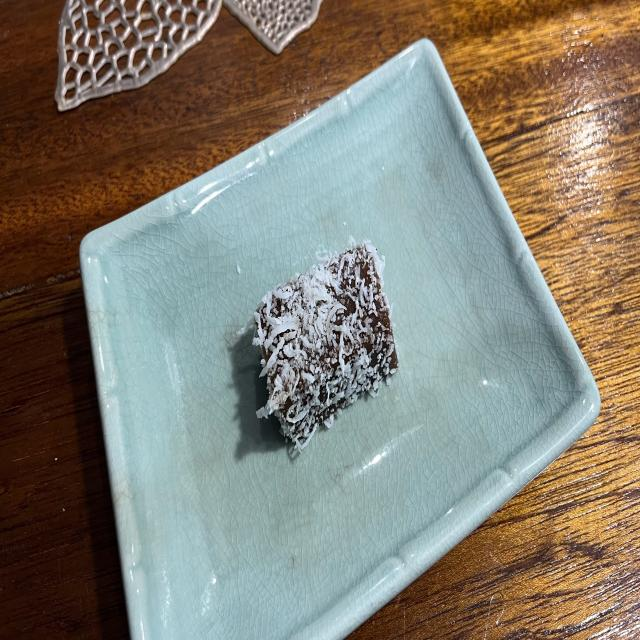kaswi: (252, 238, 399, 451)
